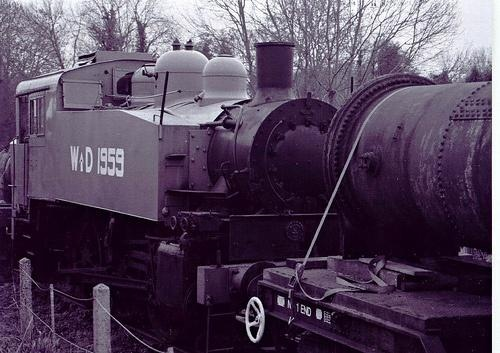train: (2, 39, 498, 347)
